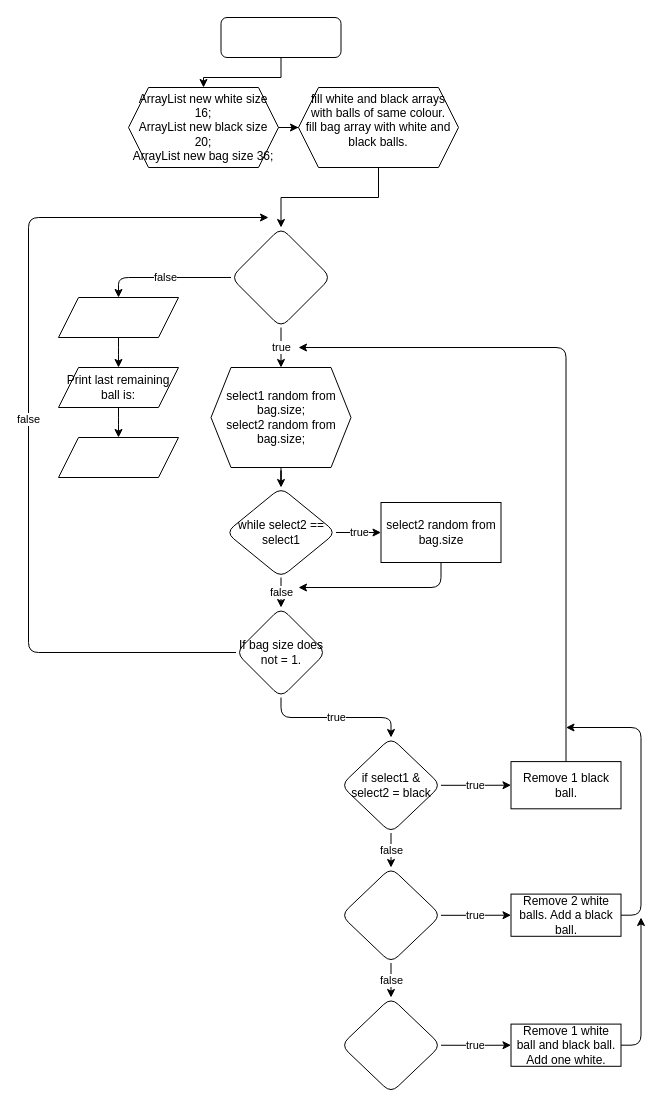
Some shapes in this 667 by 1111 pixel diagram are drawn without their labels. Each missing label, with the centre of its shape:
"if select1 & select2 = white" belongs at (x=390, y=914).
"If the colours are different." belongs at (x=390, y=1044).
"Print bag size" belongs at (x=118, y=317).
"Print count" belongs at (x=118, y=457).
"Start" belongs at (x=280, y=37).
"While bag size is bigger than 1" belongs at (x=280, y=277).
